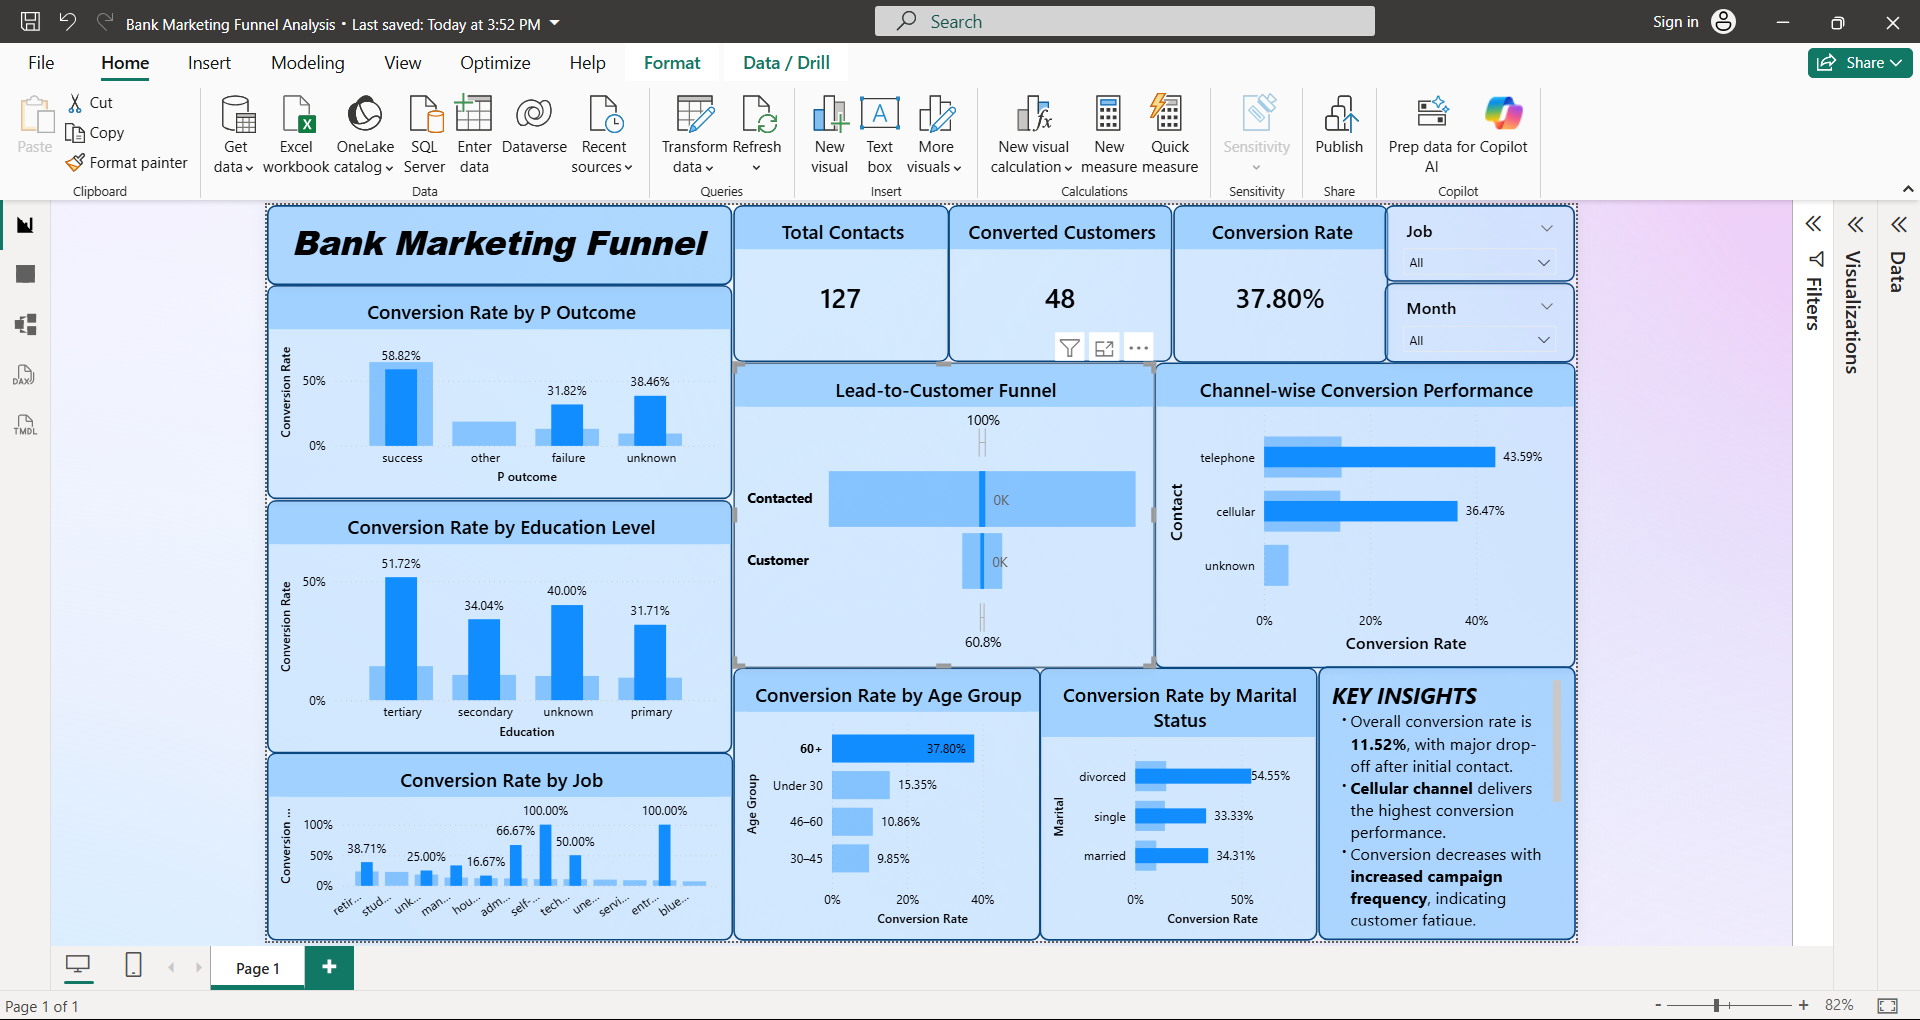

The page's visual inventory and layout, read from the dashboard file:
{"tool":"powerbi","page":{"name":"Page 1","canvas":[1280,720],"ordinal":0},"visuals":[{"type":"card","title":"Total Contacts","fields":{"Values":["Cleaned_Bank_data.Total Contacts"]},"box":[455.6,0,211.3,153.7],"z":0},{"type":"card","title":"Converted Customers","fields":{"Values":["Cleaned_Bank_data.Total Customers"]},"box":[666.9,0,219.6,153.7],"z":1000},{"type":"card","title":"Conversion Rate","fields":{"Values":["Cleaned_Bank_data.Conversion Rate"]},"box":[886.6,0,210.3,154.1],"z":2000},{"type":"funnel","title":"Lead-to-Customer Funnel","fields":{"Y":["Cleaned_Bank_data.Funnel Count"],"Category":["Cleaned_Bank_data.Funnel Stage"]},"box":[455.6,153.7,413,299.1],"z":3000},{"type":"clusteredBarChart","title":"Channel-wise Conversion Performance","fields":{"Category":["Cleaned_Bank_data.Contact"],"Y":["Cleaned_Bank_data.Conversion Rate"]},"box":[868.6,153.7,411.7,299.1],"z":4000},{"type":"slicer","fields":{"Values":["Cleaned_Bank_data.Month"]},"box":[1093.7,75.5,186.6,78.2],"z":5000},{"type":"slicer","fields":{"Values":["Cleaned_Bank_data.Job"]},"box":[1093.7,0,186.6,75.5],"z":6000},{"type":"clusteredBarChart","title":"Conversion Rate by Marital Status","fields":{"Category":["Cleaned_Bank_data.Marital"],"Y":["Cleaned_Bank_data.Conversion Rate"]},"box":[756.1,452.8,271.7,267.6],"z":7000},{"type":"clusteredColumnChart","title":"Conversion Rate by Education Level","fields":{"Category":["Cleaned_Bank_data.Education"],"Y":["Cleaned_Bank_data.Conversion Rate"]},"box":[0,288.2,455.6,248.4],"z":8000},{"type":"clusteredBarChart","fields":{"Category":["Cleaned_Bank_data.Age Group"],"Y":["Cleaned_Bank_data.Conversion Rate"]},"box":[455.6,452.8,300.5,267.6],"z":9000},{"type":"clusteredColumnChart","title":"Conversion Rate by P Outcome","fields":{"Y":["Cleaned_Bank_data.Conversion Rate"],"Category":["Cleaned_Bank_data.P out Come"]},"box":[0,78.2,455.6,209.9],"z":10000},{"type":"textbox","title":"Bank Marketing Funnel","box":[0,0,455.6,78.2],"z":11000},{"type":"clusteredColumnChart","fields":{"Category":["Cleaned_Bank_data.Job"],"Y":["Cleaned_Bank_data.Conversion Rate"]},"box":[0,536,456,184],"z":12000},{"type":"textbox","box":[1028.4,451.2,251.9,267.8],"z":13000}]}

Visuals, with their boxes on the page's 1280x720 design canvas (x1, y1, x2, y2). These are canvas units, not pixel positions in the 1920x1020 screenshot, which may show the page scaled, cropped or inside an application window:
"Total Contacts" card: 456 0 667 154
"Converted Customers" card: 667 0 886 154
"Conversion Rate" card: 887 0 1097 154
"Lead-to-Customer Funnel" funnel: 456 154 869 453
"Channel-wise Conversion Performance" clusteredBarChart: 869 154 1280 453
slicer - Cleaned_Bank_data.Month: 1094 76 1280 154
slicer - Cleaned_Bank_data.Job: 1094 0 1280 76
"Conversion Rate by Marital Status" clusteredBarChart: 756 453 1028 720
"Conversion Rate by Education Level" clusteredColumnChart: 0 288 456 537
clusteredBarChart - Cleaned_Bank_data.Age Group x Cleaned_Bank_data.Conversion Rate: 456 453 756 720
"Conversion Rate by P Outcome" clusteredColumnChart: 0 78 456 288
"Bank Marketing Funnel" textbox: 0 0 456 78
clusteredColumnChart - Cleaned_Bank_data.Job x Cleaned_Bank_data.Conversion Rate: 0 536 456 720
textbox: 1028 451 1280 719
